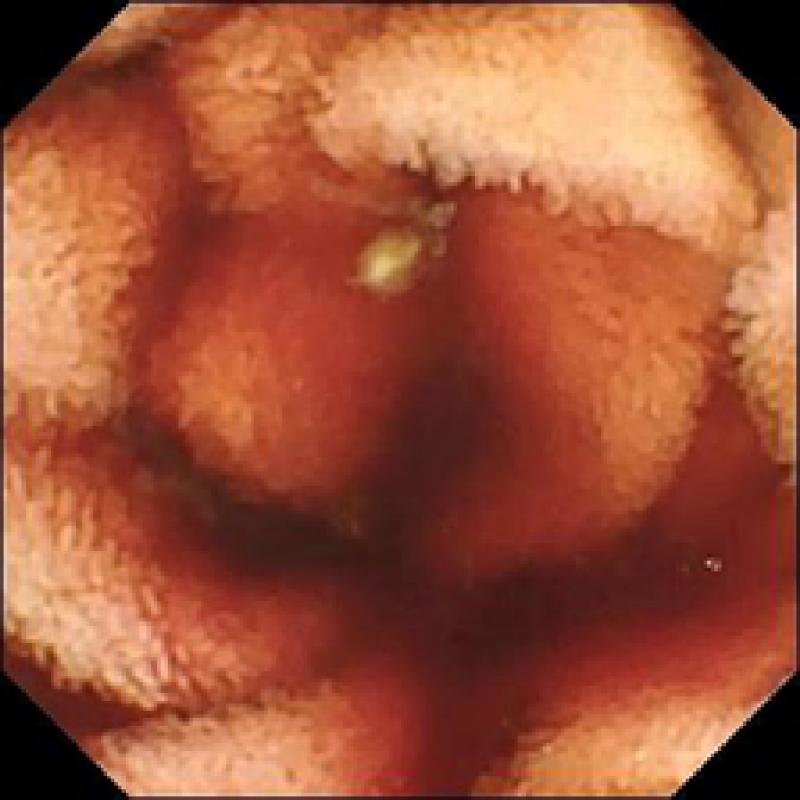bleeding: (28, 28, 800, 800)
